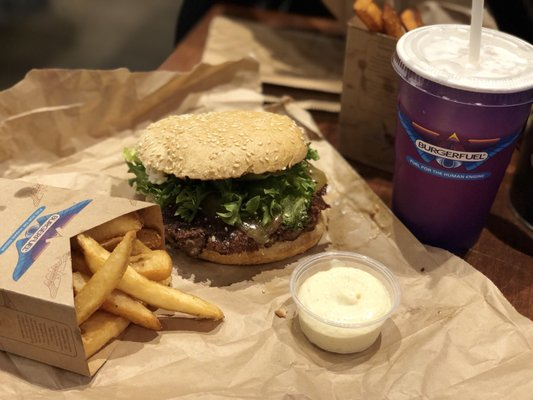pizza: (389, 23, 533, 256)
salad: (467, 1, 486, 72)
soup: (122, 105, 332, 265)
sushi: (289, 251, 402, 355)
